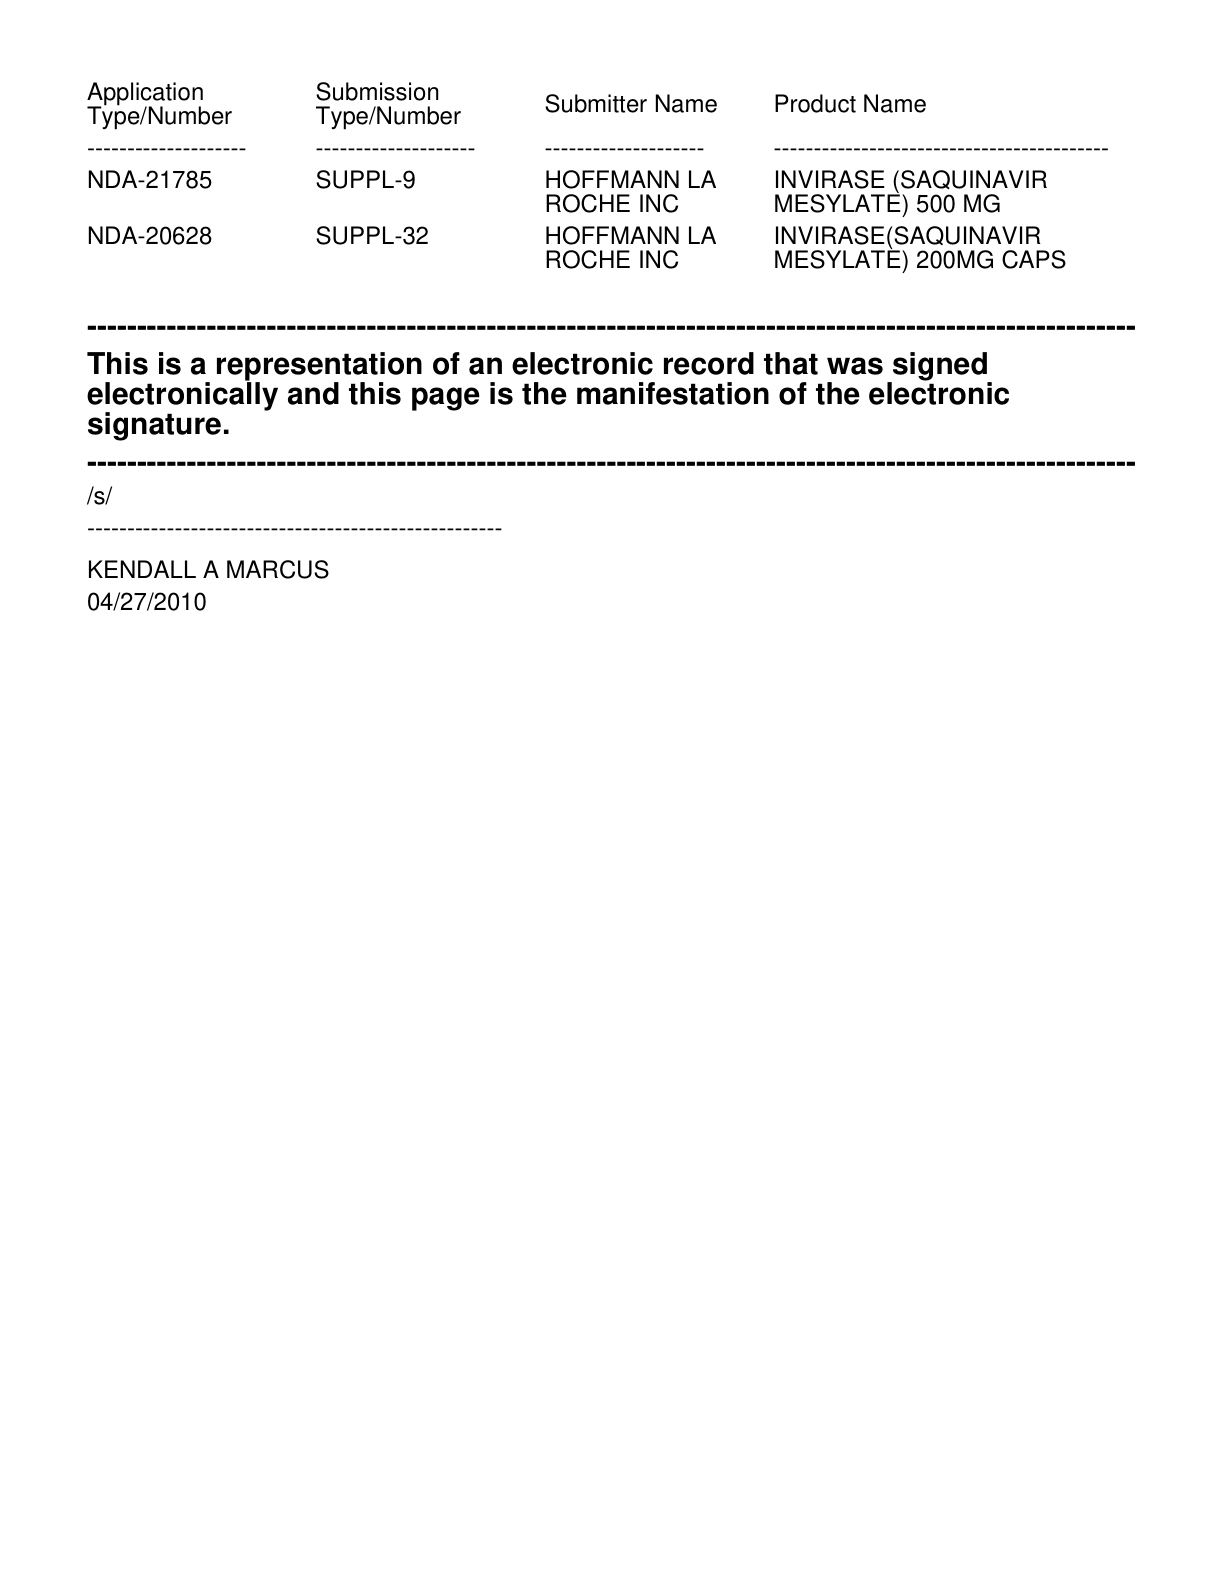nolines: (85, 78, 1110, 275)
